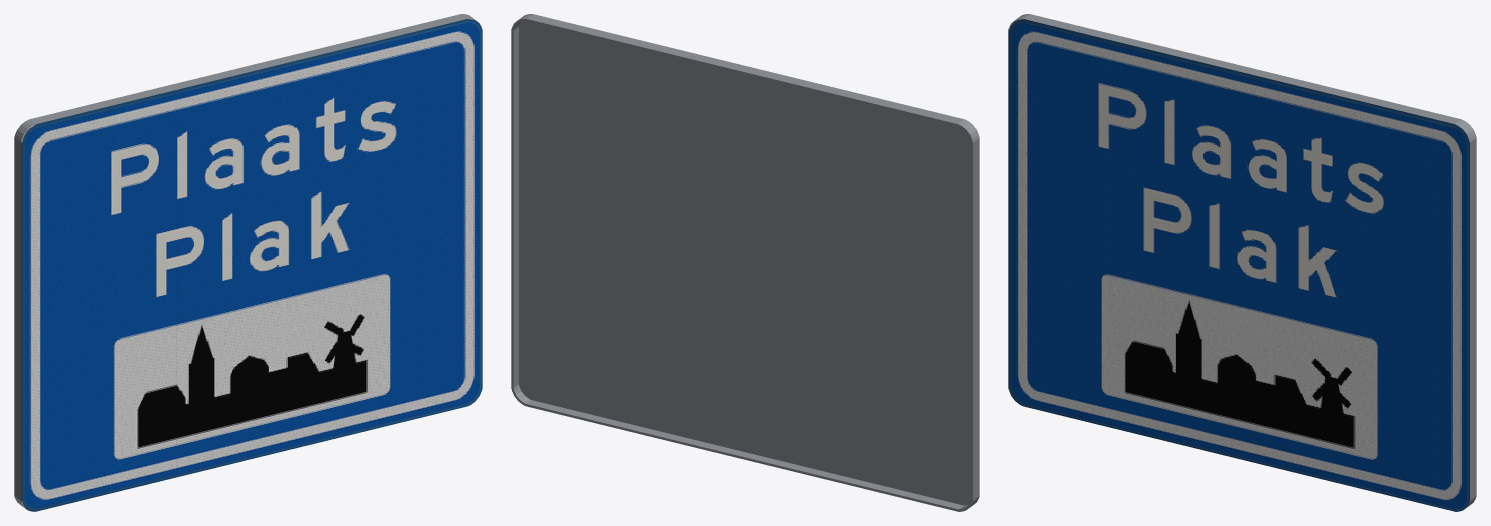
The picture shows the model from 3 angles, left to right: view 1: azimuth 30°, elevation 25°; view 2: azimuth 150°, elevation 25°; view 3: azimuth 330°, elevation 25°; orthographic projection.
Visible parts, largest first — view 1: cat_3ae68484d9c27840; view 2: cat_3ae68484d9c27840; view 3: cat_3ae68484d9c27840.
Boxes of the visible parts, x1,y1,x2,y2 form: cat_3ae68484d9c27840: [14, 14, 482, 511]; cat_3ae68484d9c27840: [511, 14, 979, 511]; cat_3ae68484d9c27840: [1008, 14, 1476, 511].
Size of the model in its own units: 0.6 by 0.015 by 0.481.
2 materials, 1 textured.
